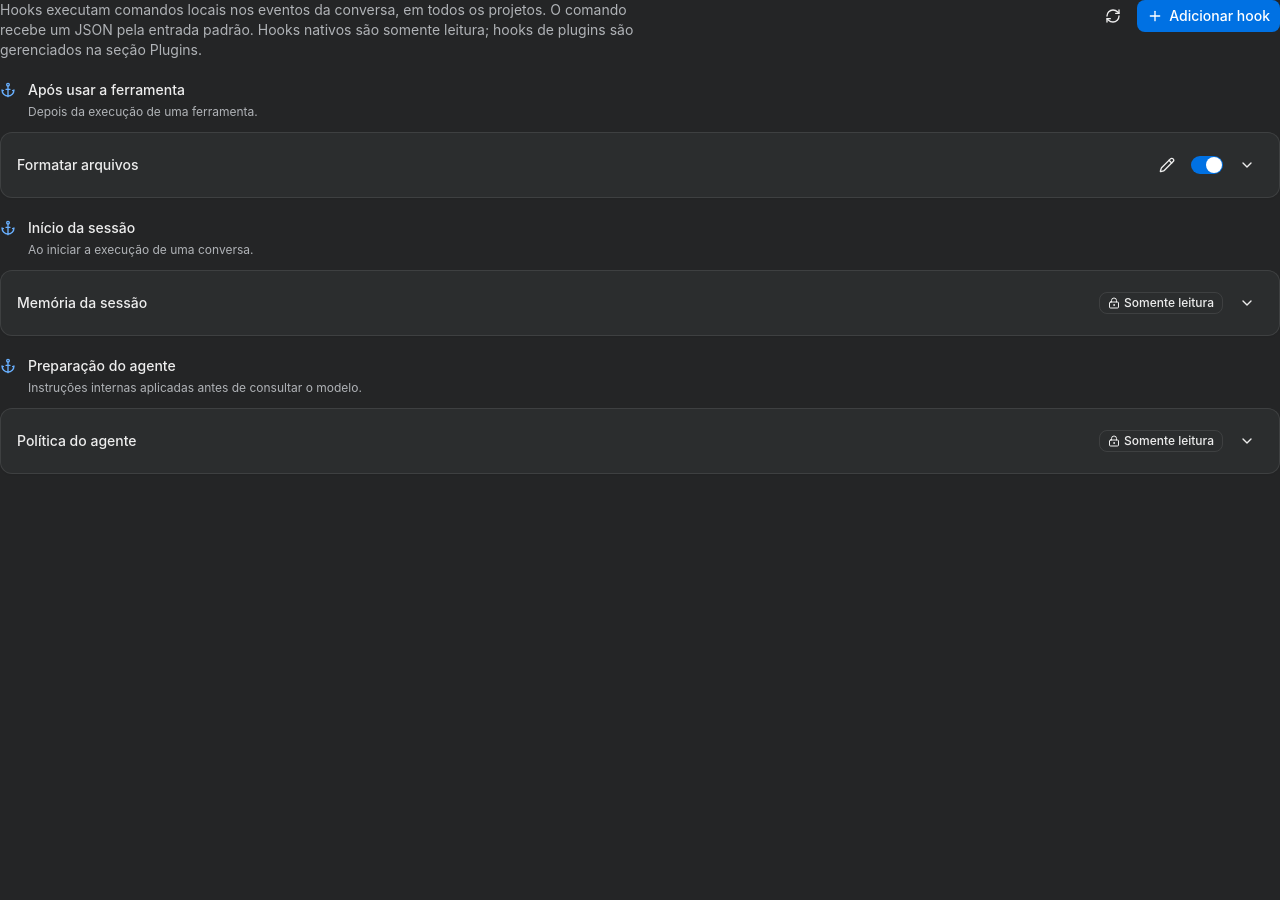
it: HooksSettings › requires explicit removal and preserves the hook when cancelled
Click the button named "Detalhes do hook Formatar arquivos": [1247, 165] box [1231, 149, 1263, 181]
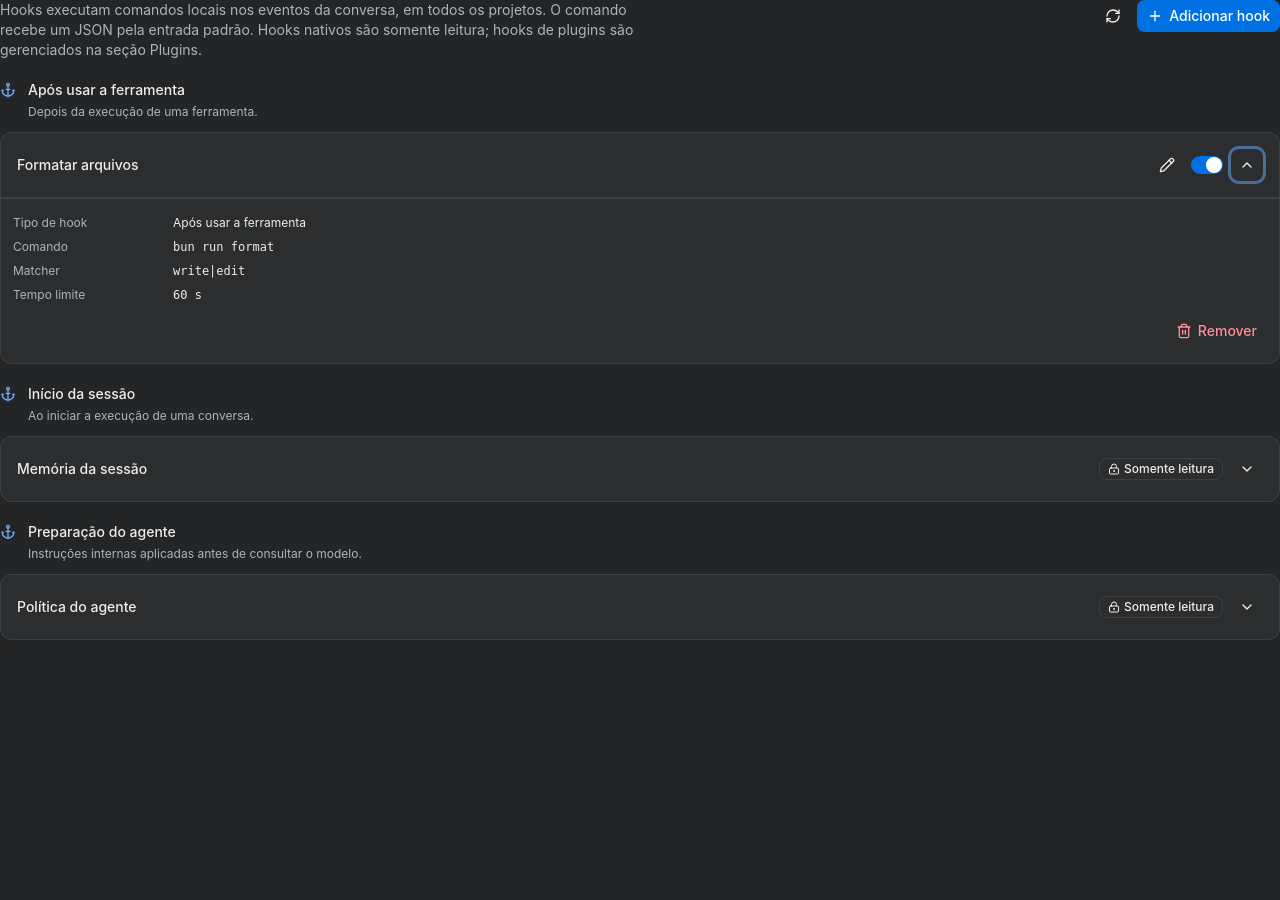
Click the button with aria-label "Remover hook Formatar arquivos": [1216, 331] box [1166, 315, 1267, 347]
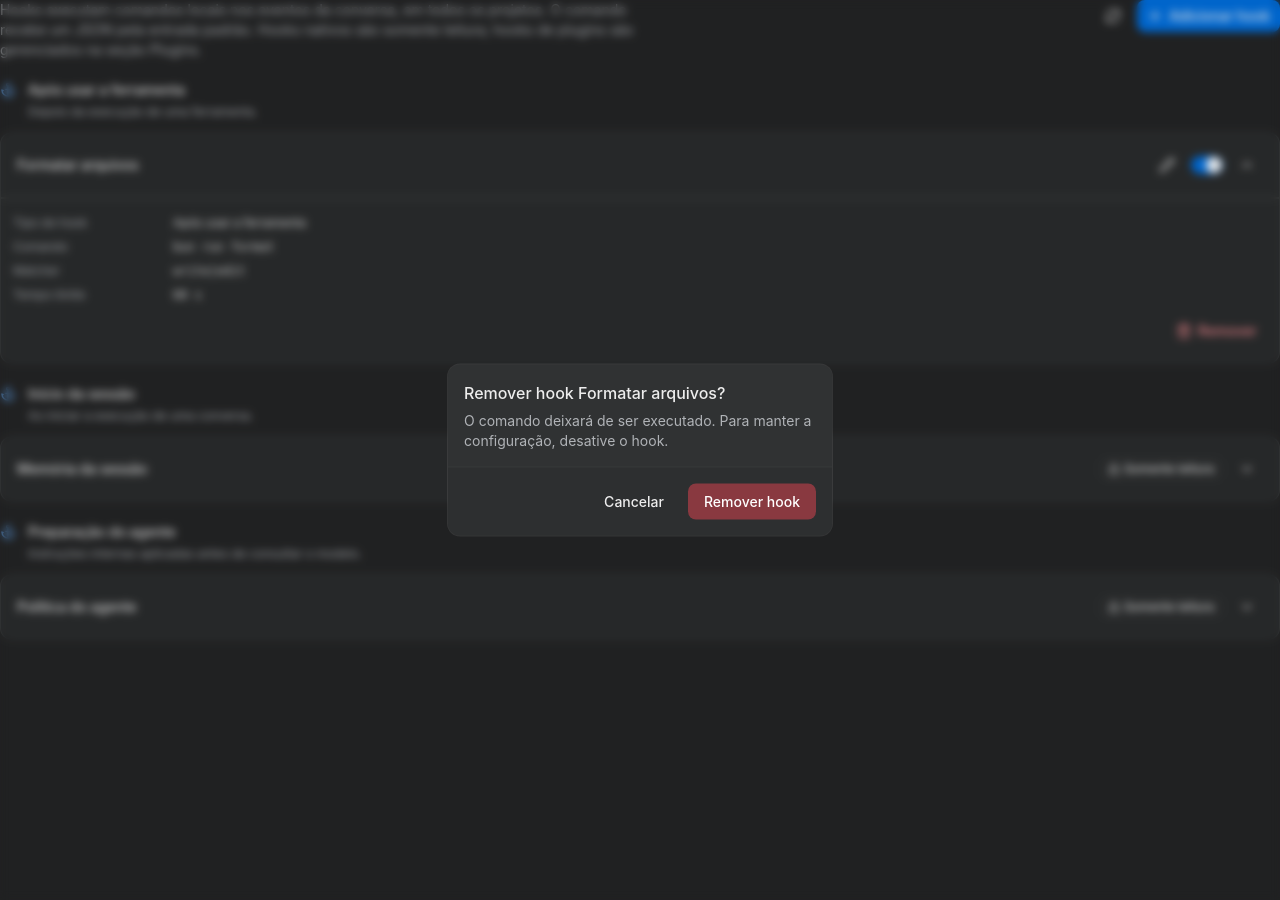
Click the button "Cancelar": [634, 502] box [588, 484, 680, 520]
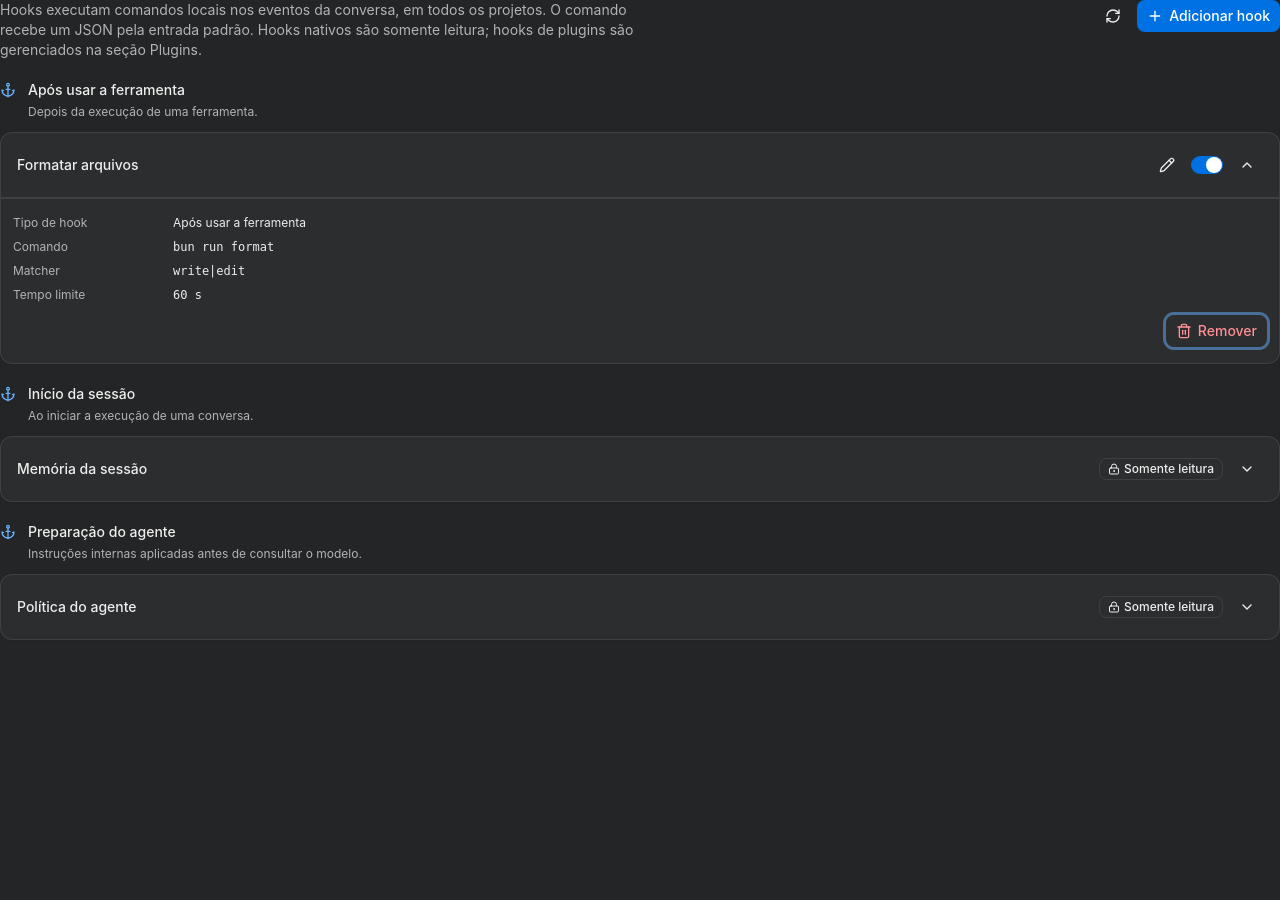
Click the button with aria-label "Remover hook Formatar arquivos": [1216, 331] box [1166, 315, 1267, 347]
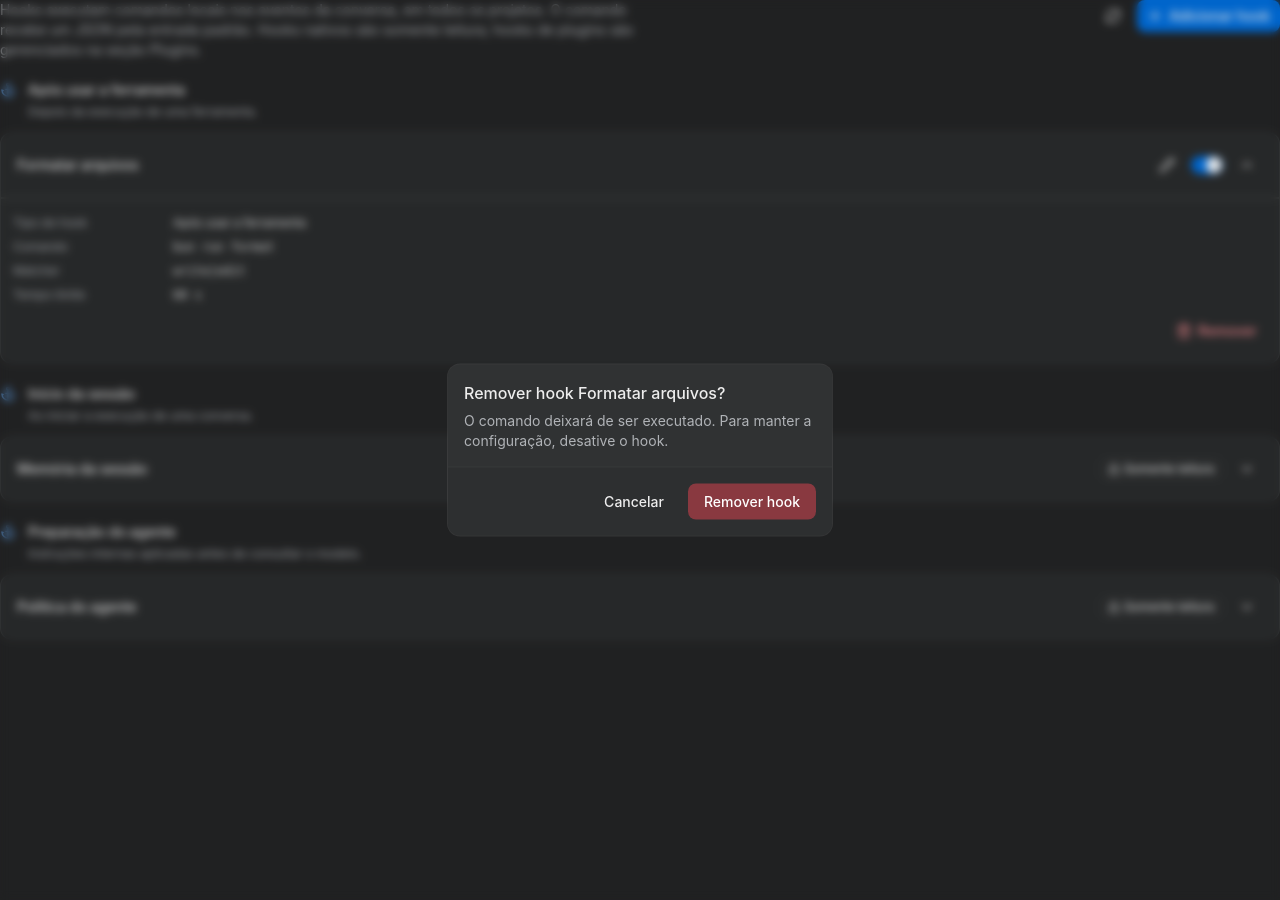
Click the button "Remover hook": [752, 502] box [688, 484, 816, 520]
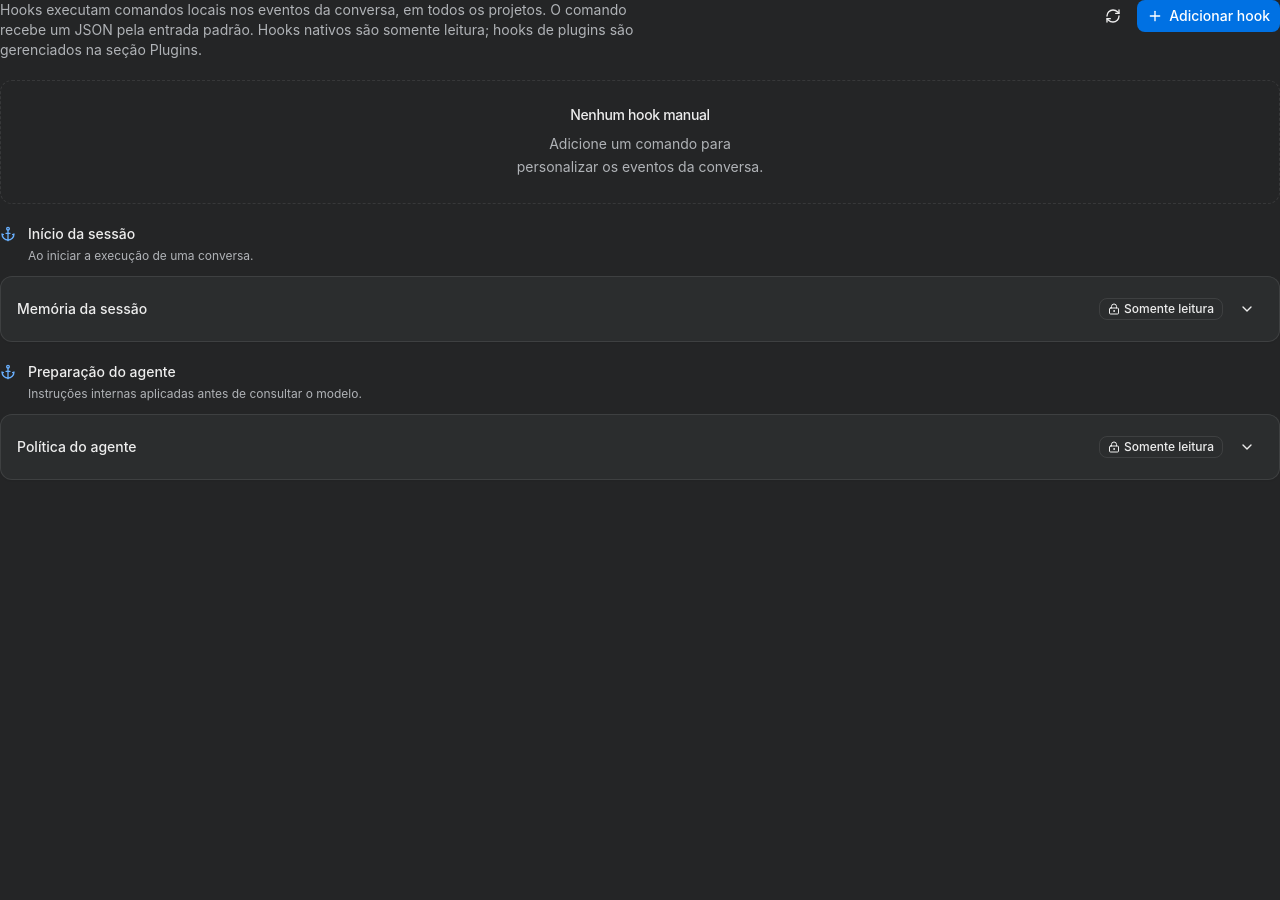
Check: the text "Nenhum hook manual" is shown, box [570, 105, 710, 125]
